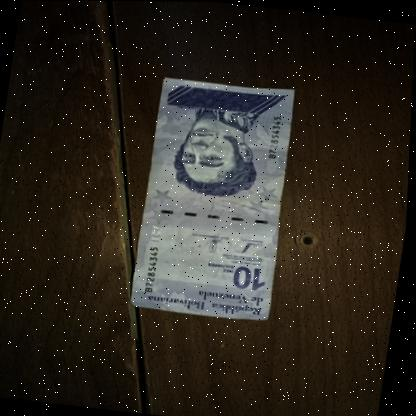vef_front: (129, 73, 306, 322)
